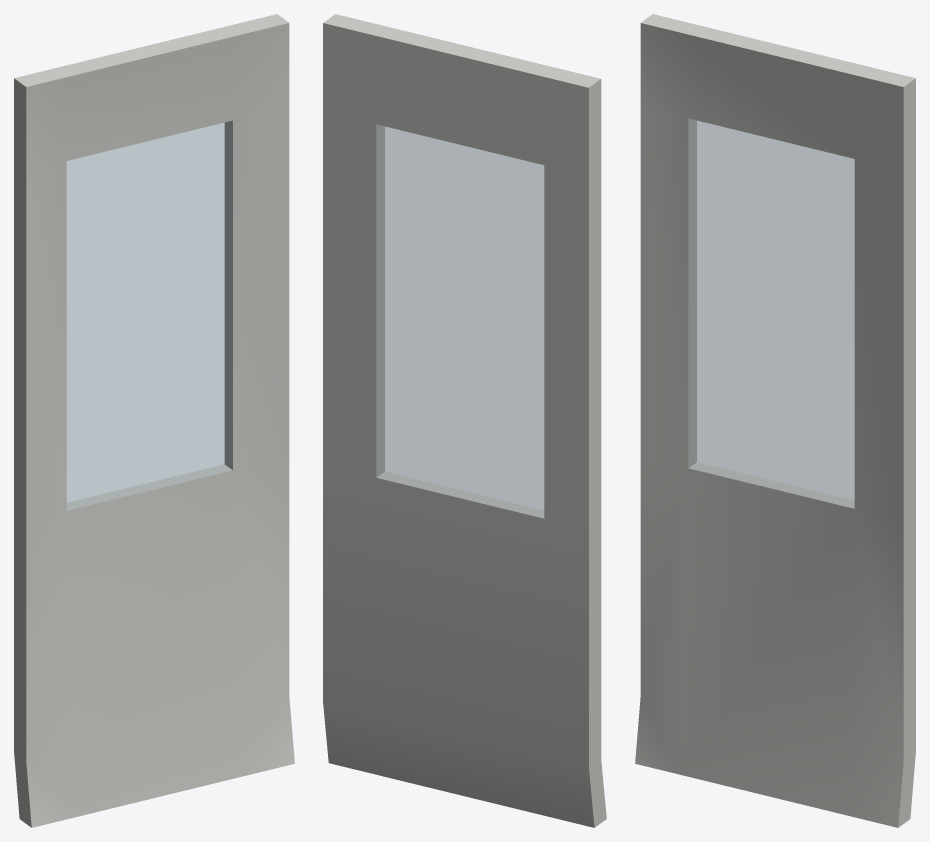
Rendered from train-door.glb.
The picture shows the model from 3 angles, left to right: view 1: azimuth 30°, elevation 25°; view 2: azimuth 150°, elevation 25°; view 3: azimuth 330°, elevation 25°; orthographic projection.
Visible parts, largest first — view 1: Dooor_Cube.002 / Door, Dooor_Cube.002 / Glass; view 2: Dooor_Cube.002 / Door, Dooor_Cube.002 / Glass; view 3: Dooor_Cube.002 / Door, Dooor_Cube.002 / Glass.
Boxes of the visible parts, left/top/right/bottom form: Dooor_Cube.002 / Door: left=14, top=14, right=294, bottom=827; Dooor_Cube.002 / Glass: left=67, top=121, right=232, bottom=510; Dooor_Cube.002 / Door: left=323, top=14, right=606, bottom=827; Dooor_Cube.002 / Glass: left=376, top=125, right=543, bottom=517; Dooor_Cube.002 / Door: left=635, top=14, right=915, bottom=827; Dooor_Cube.002 / Glass: left=688, top=119, right=854, bottom=508.
Bounding box in the file's own units: 1.52 × 4.08 × 0.1777.
